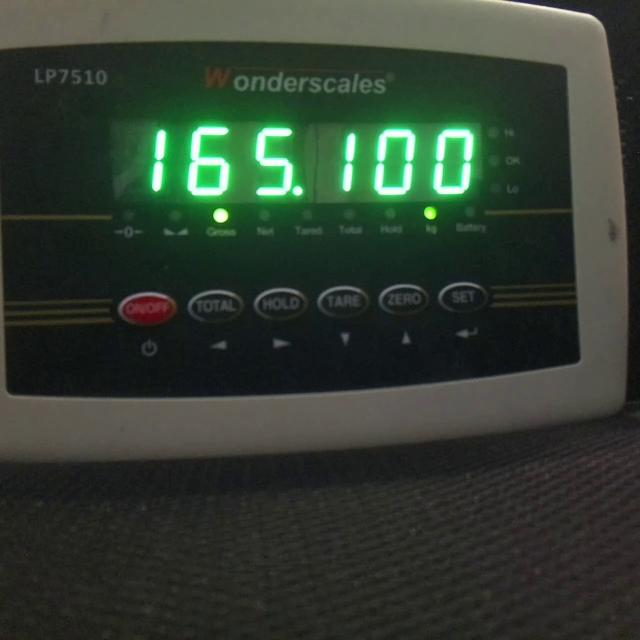.: (292, 184, 304, 197)
0: (370, 106, 420, 217), (433, 128, 473, 195)
1: (150, 129, 167, 192), (341, 132, 357, 191)
5: (247, 120, 297, 199)
6: (187, 125, 230, 196)
